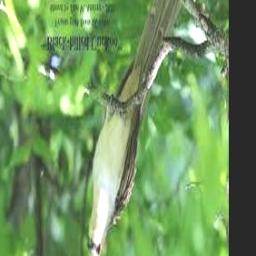Cuckoo: (87, 0, 188, 256)
